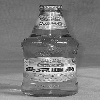beer: (19, 4, 79, 100)
